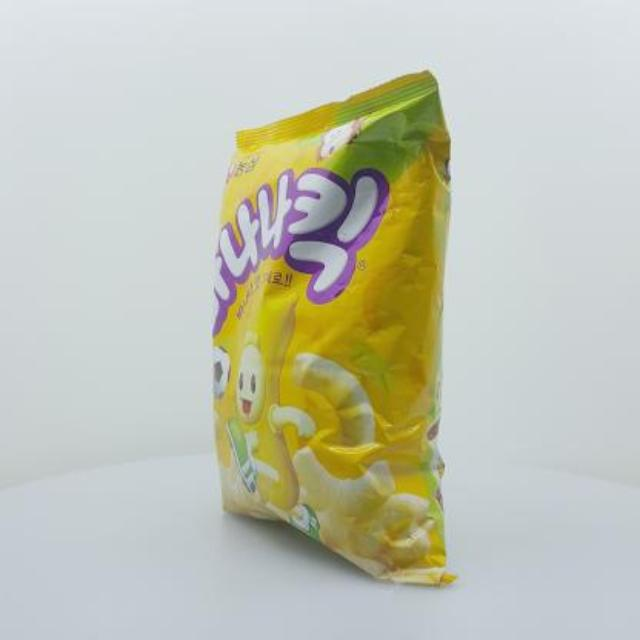snack_bag: (190, 63, 484, 599)
